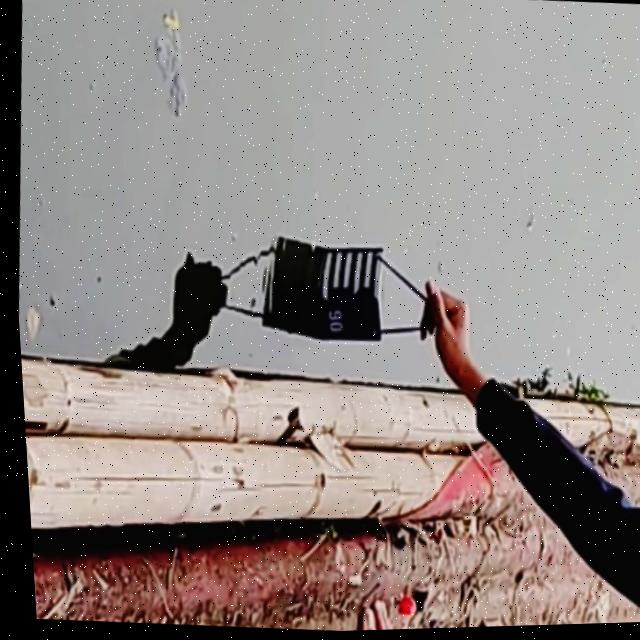water-meter: (283, 230, 399, 350)
